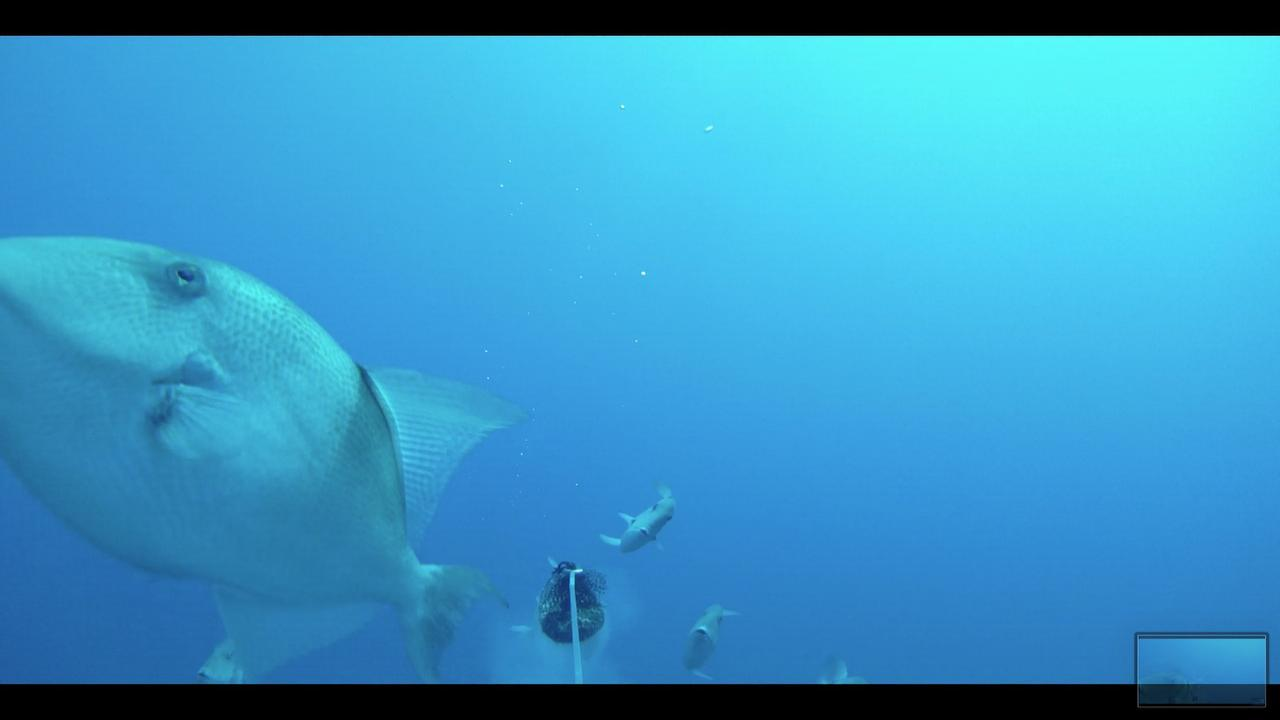balistes: (6, 230, 526, 676), (589, 468, 682, 571), (672, 598, 745, 678)
